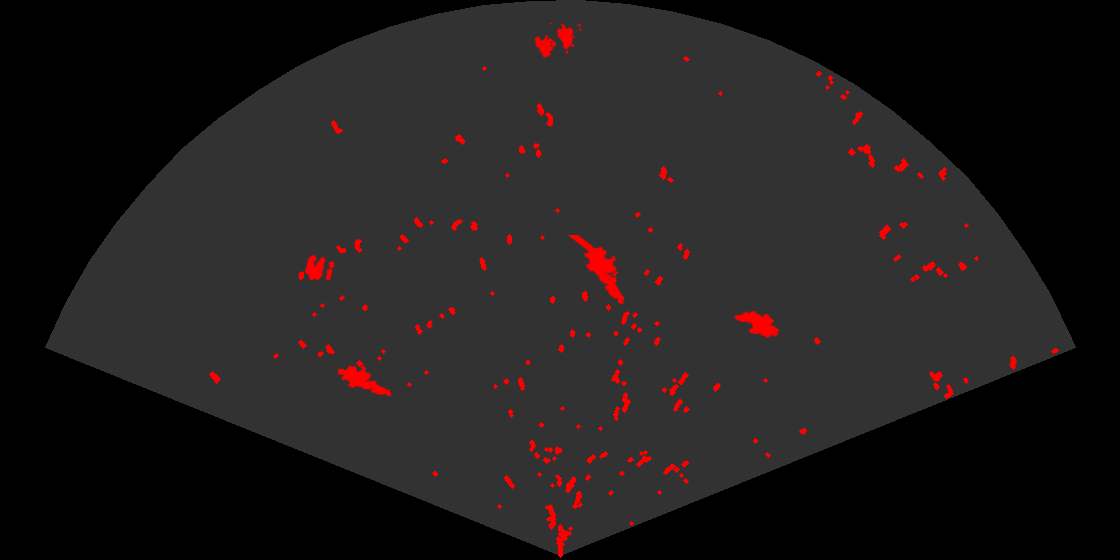AUV: (732, 309, 781, 340)
ball: (303, 253, 336, 283)
cage: (533, 23, 581, 60)
frogman: (569, 235, 626, 306), (338, 364, 393, 398)
